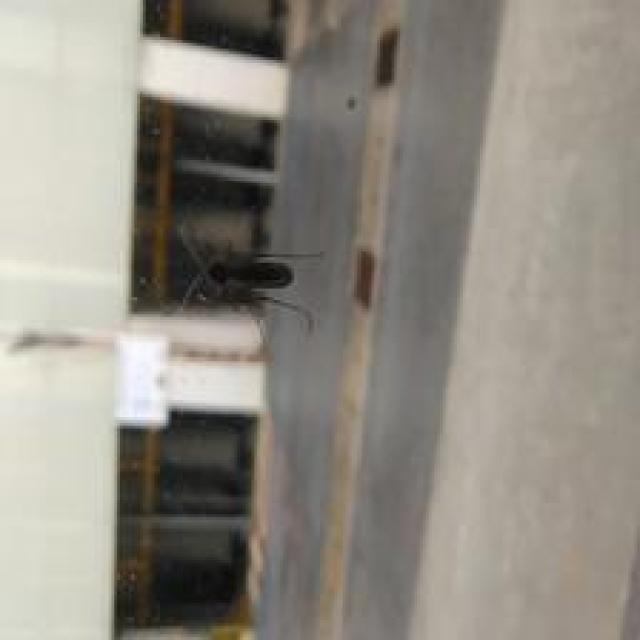Culex: (170, 218, 324, 338)
